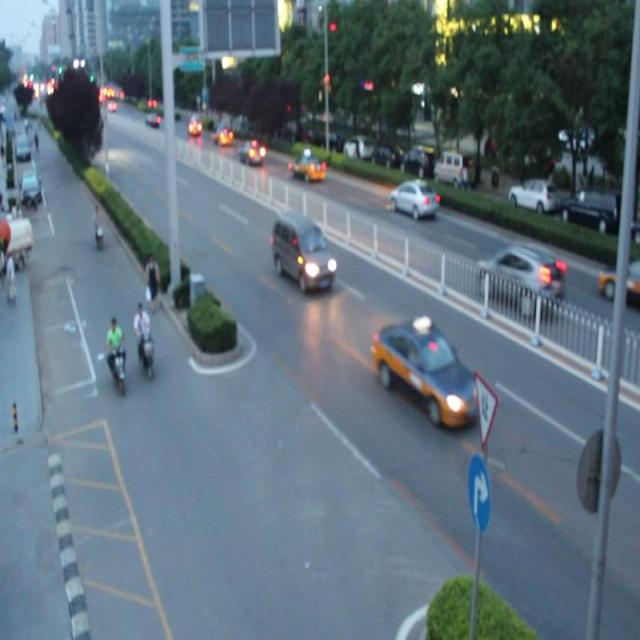car: (373, 317, 482, 426), (476, 240, 563, 316), (597, 249, 640, 309), (389, 177, 438, 219), (288, 151, 325, 184), (238, 139, 265, 167), (212, 123, 232, 145), (188, 114, 202, 136)
truck: (271, 210, 334, 294)
